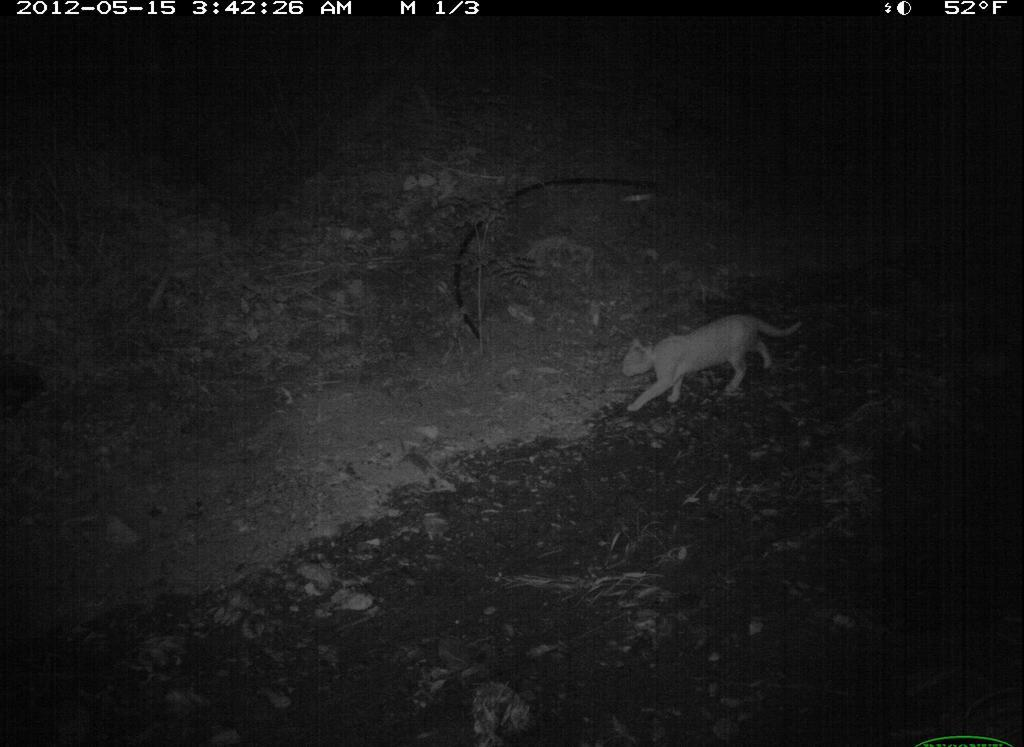cat: (615, 309, 809, 423)
